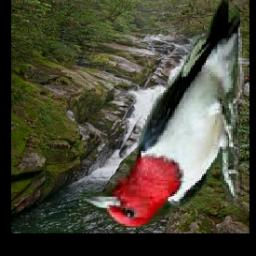Woodpecker: (76, 1, 248, 229)
